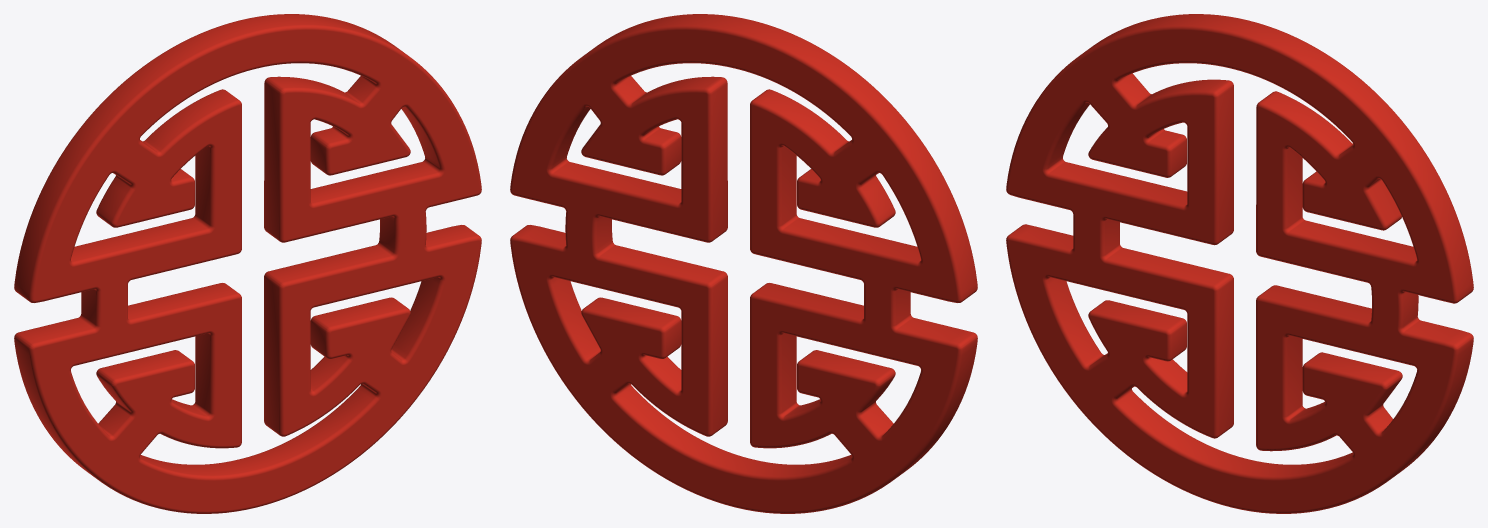
File: shou-cruz-ligera.glb
The picture shows the model from 3 angles, left to right: view 1: azimuth 30°, elevation 25°; view 2: azimuth 150°, elevation 25°; view 3: azimuth 330°, elevation 25°; orthographic projection.
Visible parts, largest first — view 1: geometry_0; view 2: geometry_0; view 3: geometry_0.
Part boxes in pixels (x1,y1,x2,y2): geometry_0: (14,14,481,513); geometry_0: (510,14,977,513); geometry_0: (1006,14,1473,513).
Bounding box in the file's own units: 0.9939 × 1 × 0.07.
